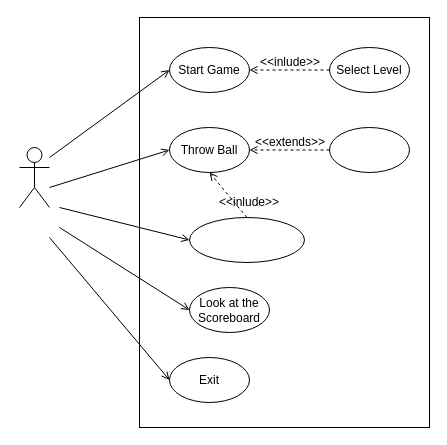
Image size: 447x445. Some labels were removed from this diagram. The centre of each missing label's shape, as x and y in pixels:
"Check the number of dropped pins" belongs at (x=246, y=239).
"Player" belongs at (x=34, y=177).
"Throw Ball at third chance" belongs at (x=369, y=149).
